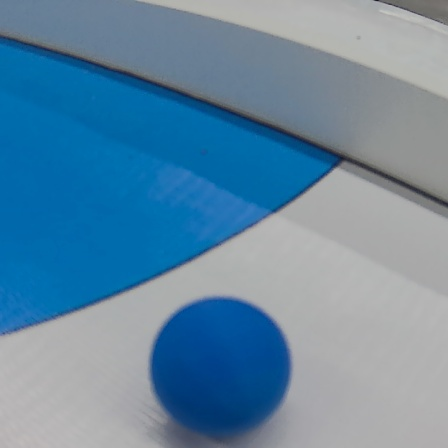blue: (146, 296, 294, 433)
blue_base: (0, 28, 346, 336)
